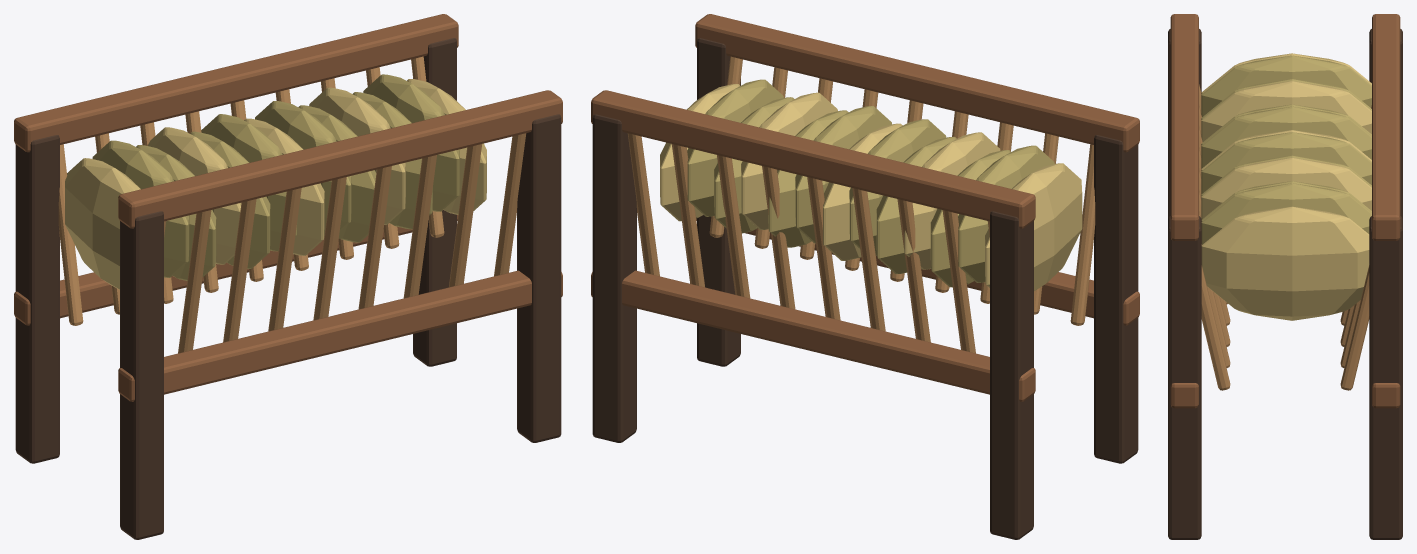
File: hay_rack.glb
3 views of the same model, side by side, from view 1: azimuth 30°, elevation 25°; view 2: azimuth 150°, elevation 25°; view 3: azimuth 270°, elevation 25° (orthographic). The views are drawn at different scales.
Visible parts, largest first — view 1: hay_rack__structure, hay_rack__attachments; view 2: hay_rack__structure, hay_rack__attachments; view 3: hay_rack__attachments, hay_rack__structure.
Part boxes in pixels (left/top/right/bottom): hay_rack__structure: left=14, top=14, right=562, bottom=539; hay_rack__attachments: left=65, top=74, right=486, bottom=289; hay_rack__structure: left=591, top=14, right=1139, bottom=539; hay_rack__attachments: left=660, top=79, right=1082, bottom=290; hay_rack__attachments: left=1201, top=53, right=1371, bottom=320; hay_rack__structure: left=1168, top=14, right=1402, bottom=539.
Bounding box in the file's own units: 1.44 × 1.07 × 0.7.
